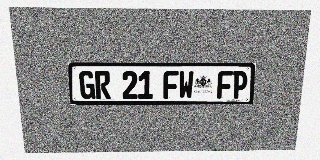1: (138, 71, 153, 99)
2: (122, 71, 138, 99)
F: (217, 71, 233, 99), (163, 71, 178, 99)
G: (79, 71, 95, 99)
P: (232, 71, 248, 99)
R: (95, 71, 111, 99)
W: (179, 71, 194, 99)
